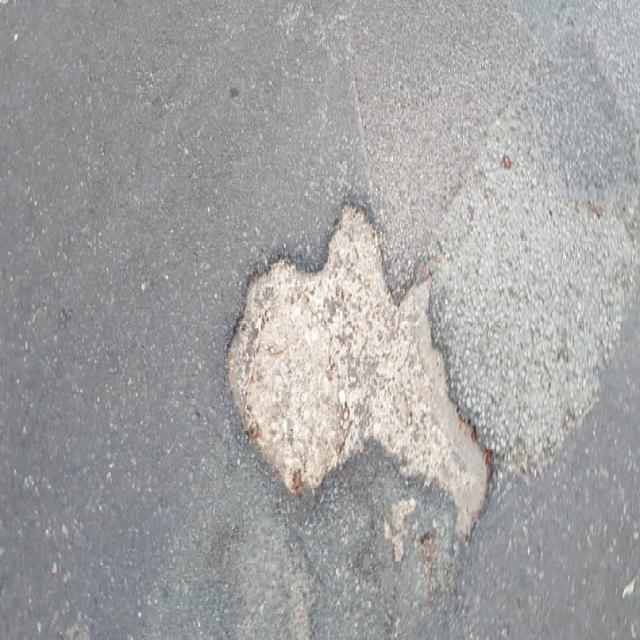pothole: (222, 191, 498, 547)
